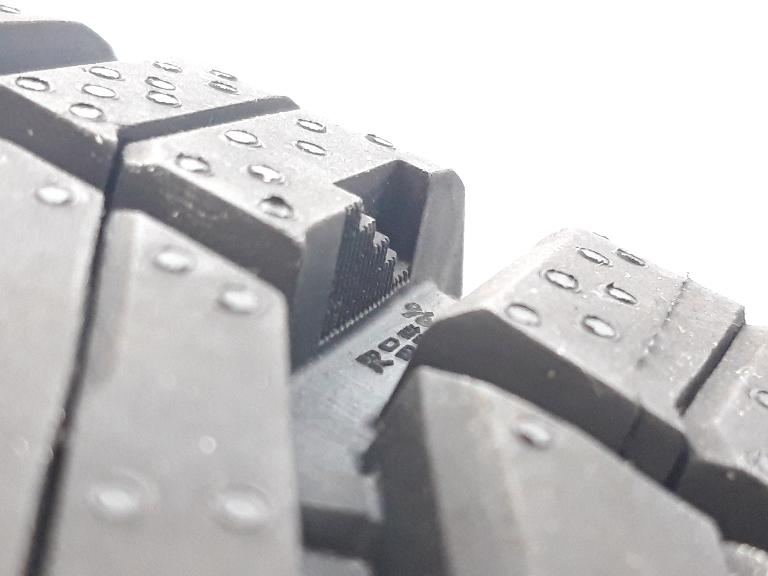temoin:100: (315, 154, 438, 351)
